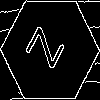Z: (25, 25, 73, 76)
